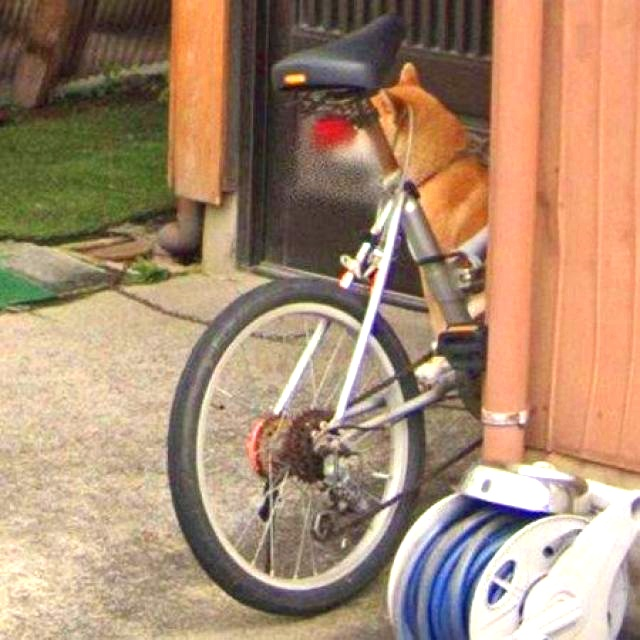bicycle: (163, 14, 529, 626)
